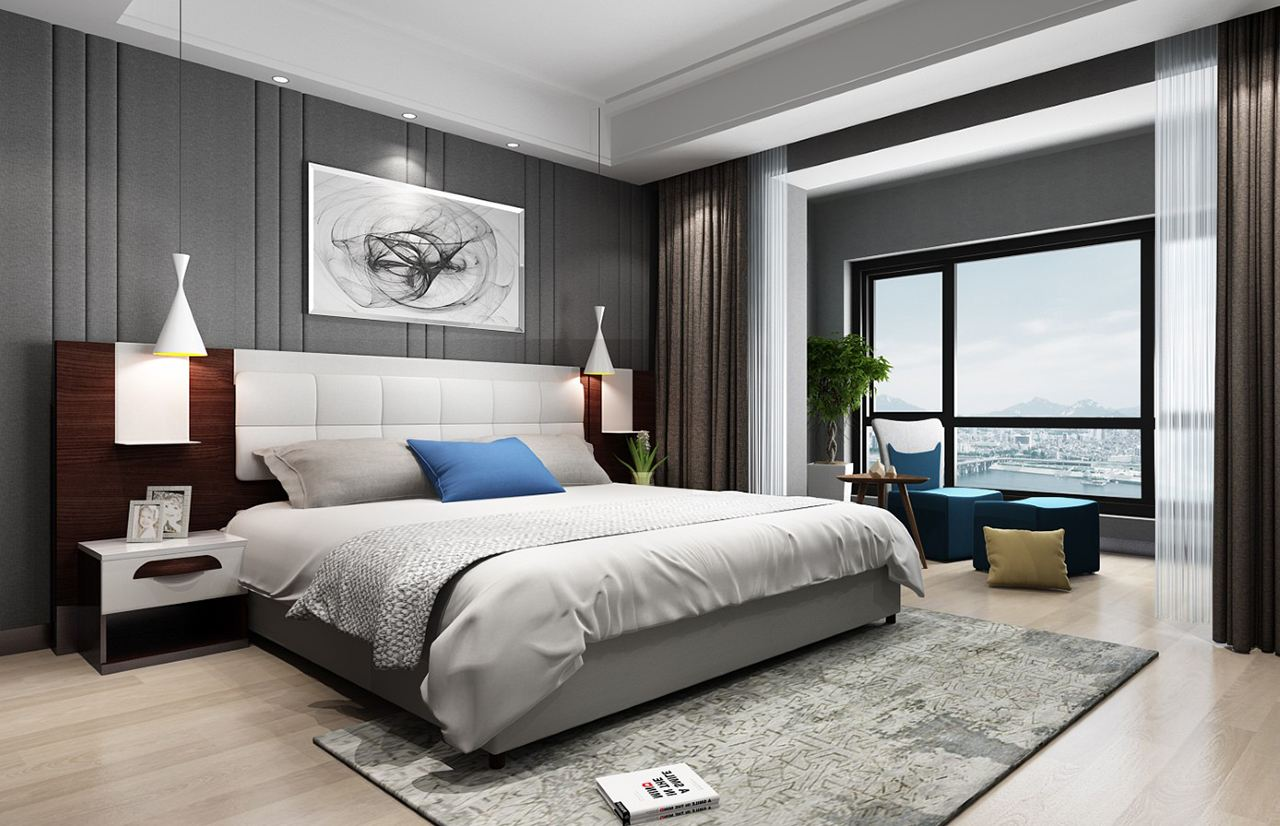床: (232, 482, 912, 752)
枕头: (248, 423, 605, 511), (970, 525, 1078, 593)
灯: (153, 246, 211, 369), (579, 301, 618, 386), (394, 107, 423, 129), (264, 70, 292, 86), (500, 137, 523, 153)
